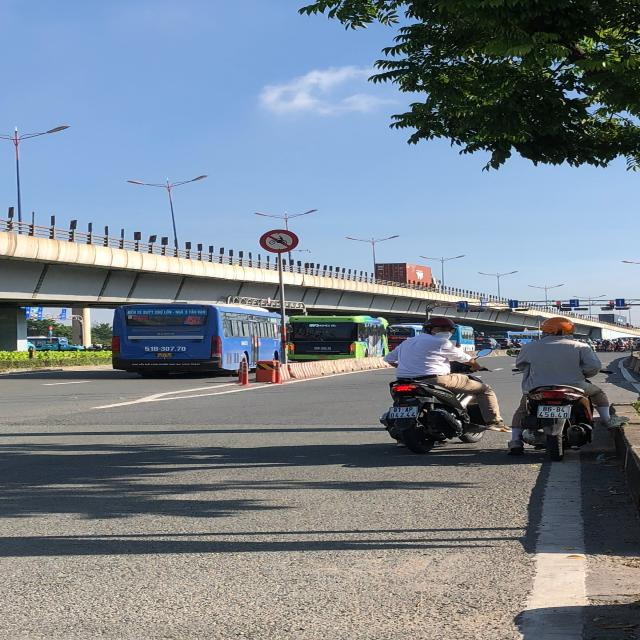Bien bao cam xe may: (254, 225, 304, 257)
